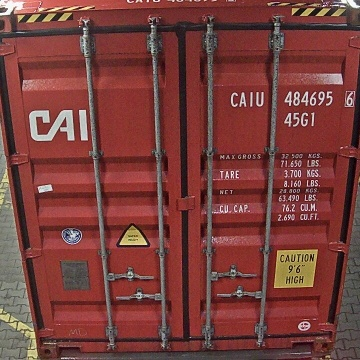serial_id: (231, 90, 354, 106)
